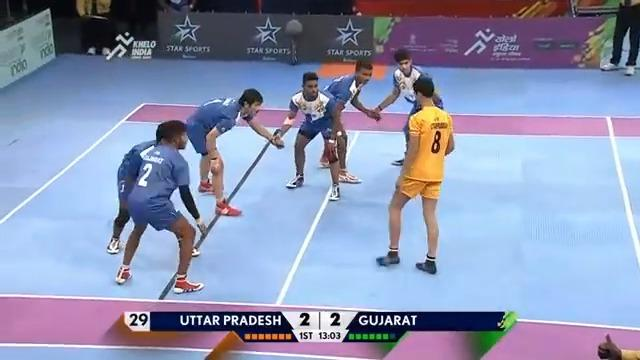Player: (111, 117, 209, 296), (184, 87, 283, 217), (271, 69, 344, 195), (373, 47, 443, 165), (321, 59, 380, 184)
Raider: (374, 74, 457, 275)
referee: (599, 0, 639, 76)
